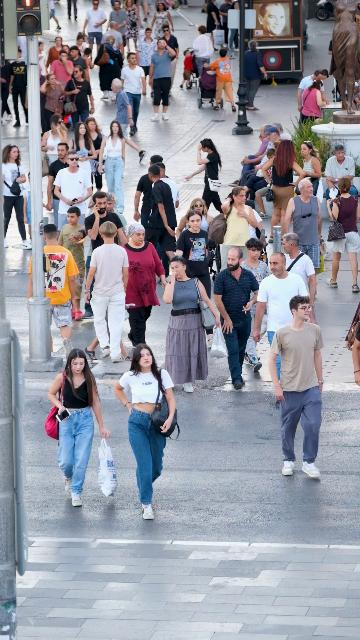person: (114, 344, 177, 521), (269, 295, 325, 480), (47, 348, 111, 507), (253, 253, 317, 409), (162, 255, 222, 395), (28, 224, 82, 359), (213, 247, 260, 390), (84, 221, 130, 364), (250, 139, 306, 242), (84, 191, 129, 317), (121, 222, 166, 346), (98, 120, 147, 215), (325, 176, 360, 294), (280, 177, 324, 269), (144, 165, 178, 277), (56, 207, 88, 321), (219, 186, 259, 273), (0, 144, 32, 249), (238, 126, 282, 201), (174, 210, 213, 294), (184, 138, 225, 215), (133, 155, 163, 258), (279, 232, 317, 313), (52, 151, 93, 219), (226, 125, 269, 188), (226, 186, 266, 248), (148, 38, 176, 122), (324, 145, 359, 212), (72, 122, 99, 207), (120, 52, 147, 136), (203, 47, 237, 111), (245, 149, 276, 219), (46, 142, 69, 233), (40, 74, 73, 134), (64, 65, 95, 126), (297, 69, 328, 126), (245, 40, 268, 111), (84, 118, 106, 192), (82, 0, 108, 60), (98, 35, 121, 102), (296, 141, 323, 197), (175, 198, 213, 237), (111, 78, 135, 136), (158, 162, 180, 225), (192, 26, 215, 84), (101, 21, 125, 75), (301, 80, 327, 124), (48, 50, 74, 93), (136, 28, 158, 78), (123, 0, 143, 54), (150, 1, 174, 44), (158, 26, 179, 70), (203, 0, 221, 48), (45, 37, 68, 73), (107, 1, 129, 35), (102, 192, 124, 222), (180, 50, 195, 90), (23, 172, 31, 241), (38, 41, 49, 75), (76, 33, 87, 56), (139, 0, 149, 22)
